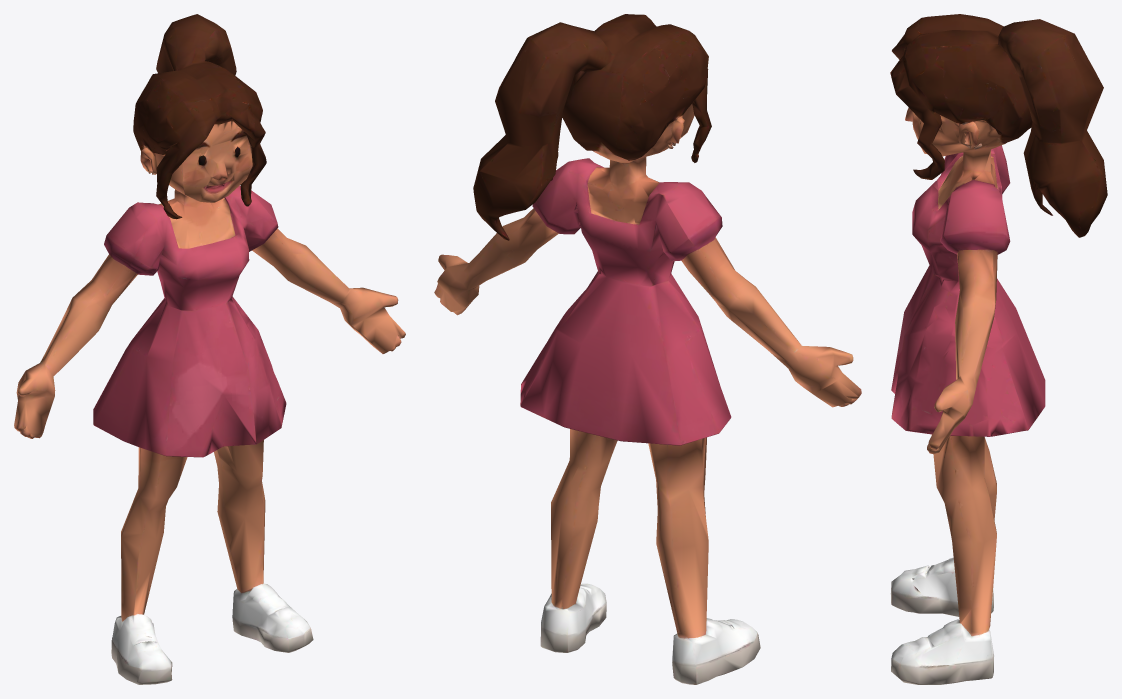
File: woman.glb
The picture shows the model from 3 angles, left to right: view 1: azimuth 30°, elevation 25°; view 2: azimuth 150°, elevation 25°; view 3: azimuth 270°, elevation 25°; orthographic projection. The views are drawn at different scales.
Parts seen in each view (by area): view 1: world; view 2: world; view 3: world.
Part boxes in pixels (<box>): world: <box>14,14,405,684</box>; world: <box>434,14,861,684</box>; world: <box>890,14,1107,684</box>.
Size of the model in its own units: 0.6866 by 1 by 0.3102.
1 material, 1 textured.
